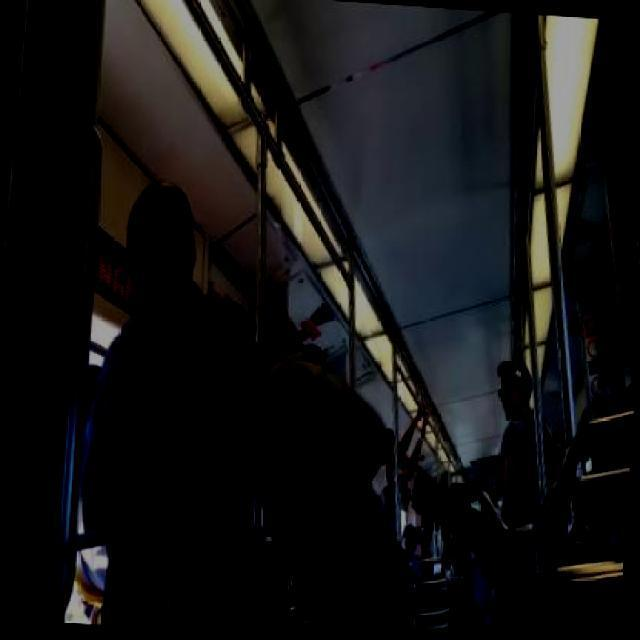non-fight: (77, 178, 288, 620), (485, 356, 570, 530)
